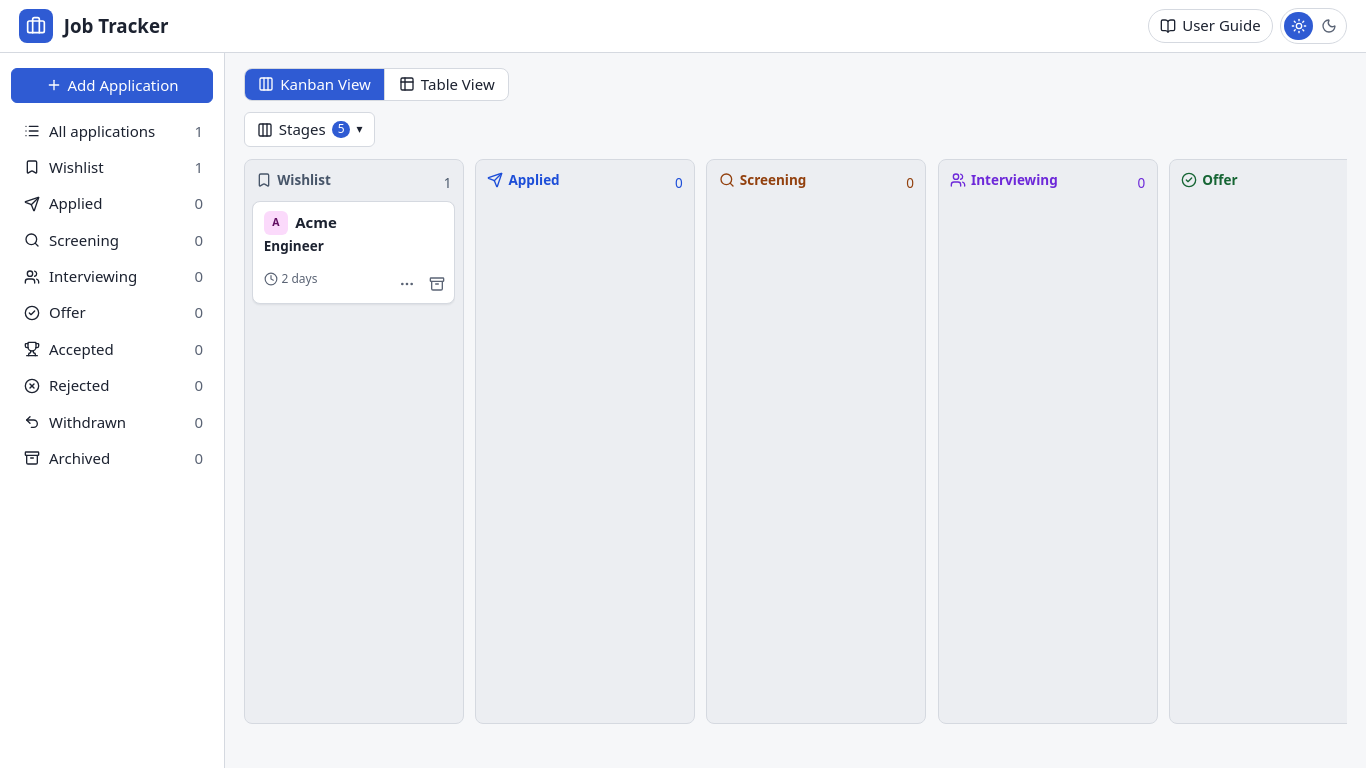
moving a card from its menu (spec 018) › puts the card back and shows the error when the save fails, with no moved message (AC-13)
Click the button named "Move: Engineer at Acme" at (406, 284), box [392,270,422,300]
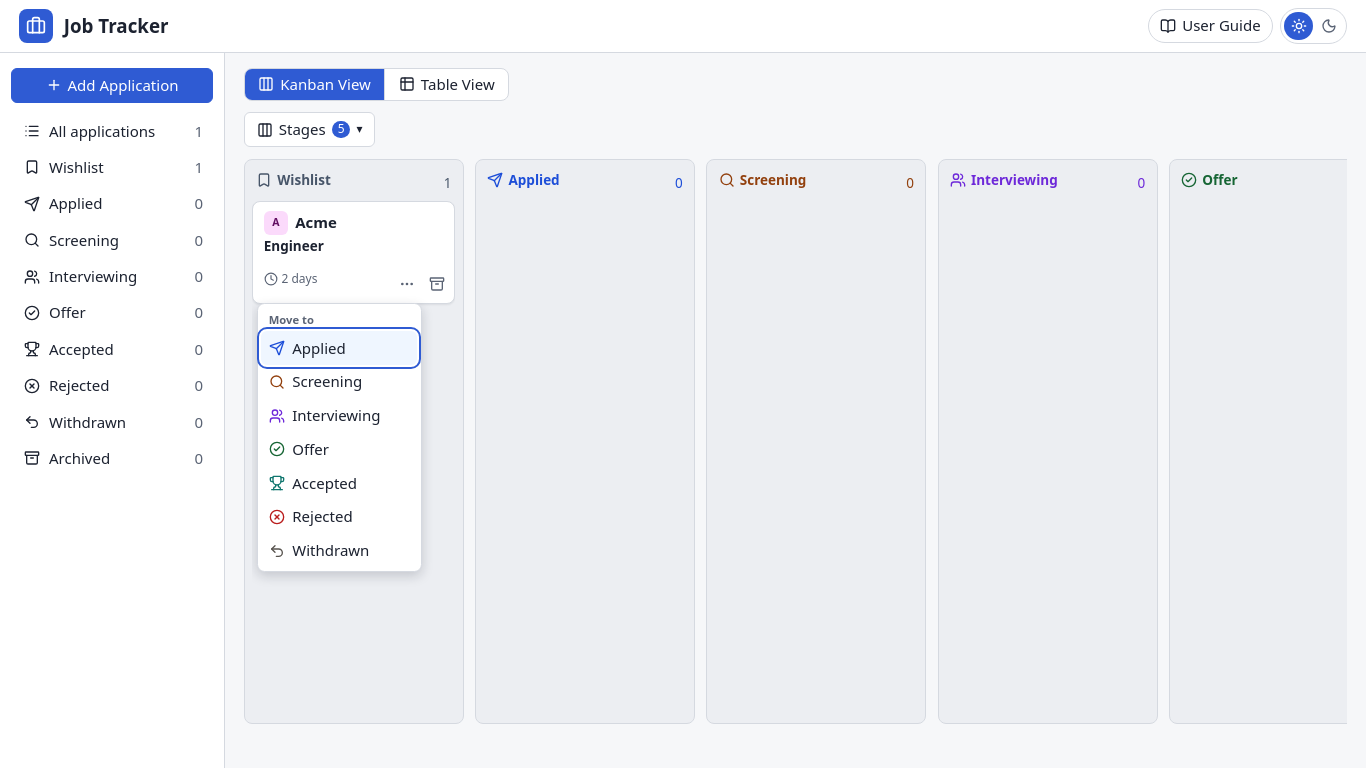
Click the menu item "Rejected" at (339, 517), box [261,500,417,534]
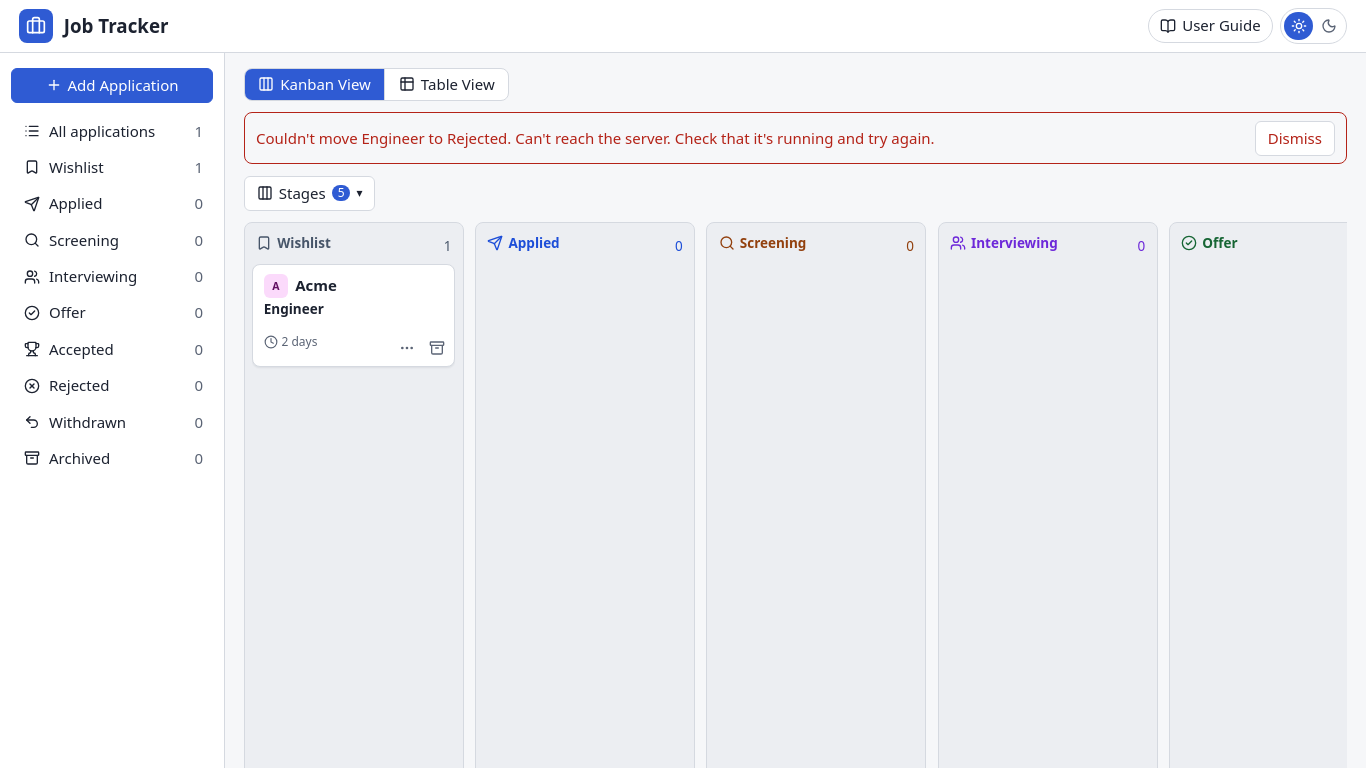
Expected: the message shows "Couldn't move Engineer to Rejected", [256,128,934,148]
